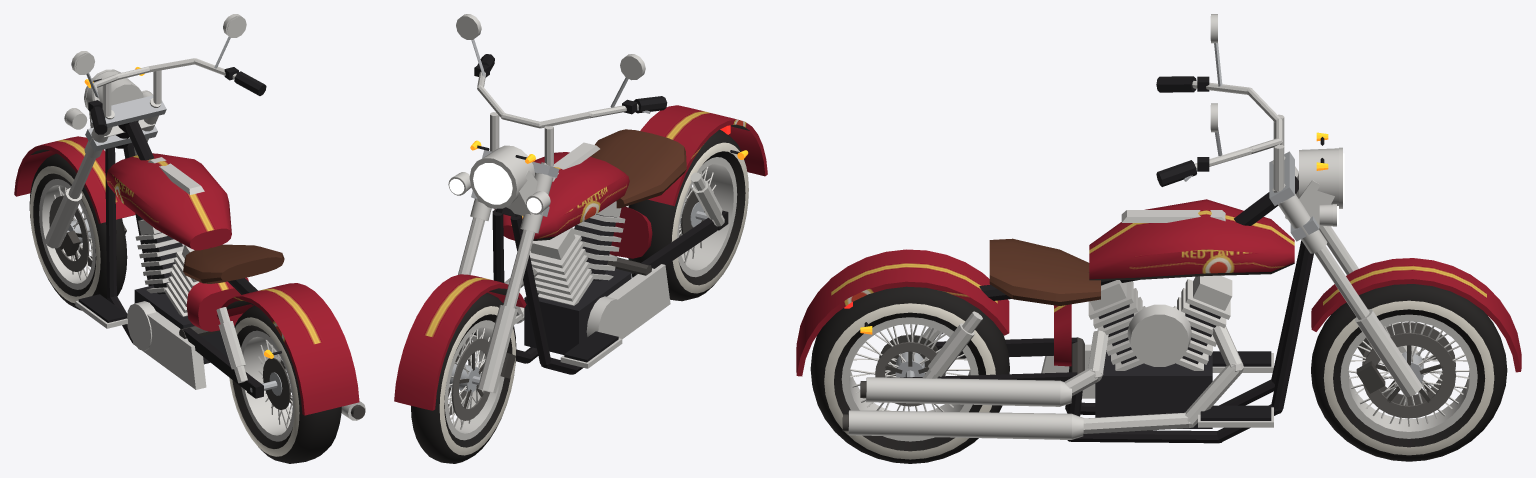
Rendered from BIKE-006_Export.fbx.
3 views of the same model, side by side, from view 1: azimuth 30°, elevation 25°; view 2: azimuth 150°, elevation 25°; view 3: azimuth 270°, elevation 25° (orthographic). The views are drawn at different scales.
Parts seen in each view (by area): view 1: BIKE-006_Frame, BIKE-006_Body, BIKE-006_Fork, BIKE-006_Wheel_R_Tire, BIKE-006_Wheel_F_Tire, BIKE-006_Wheel_R_Rim, BIKE-006_Wheel_F_Rim; view 2: BIKE-006_Frame, BIKE-006_Fork, BIKE-006_Body, BIKE-006_Wheel_R_Tire, BIKE-006_Wheel_F_Tire, BIKE-006_Wheel_F_Rim, BIKE-006_Wheel_R_Rim; view 3: BIKE-006_Frame, BIKE-006_Body, BIKE-006_Fork, BIKE-006_Wheel_F_Tire, BIKE-006_Wheel_R_Tire, BIKE-006_Wheel_F_Rim, BIKE-006_Wheel_R_Rim.
Boxes of the visible parts, x1=… form: BIKE-006_Frame: x1=75, y1=120, x2=365, y2=420; BIKE-006_Body: x1=106, y1=153, x2=359, y2=415; BIKE-006_Fork: x1=14, y1=14, x2=266, y2=256; BIKE-006_Wheel_R_Tire: x1=229, y1=305, x2=341, y2=463; BIKE-006_Wheel_F_Tire: x1=29, y1=153, x2=127, y2=310; BIKE-006_Wheel_R_Rim: x1=241, y1=330, x2=294, y2=441; BIKE-006_Wheel_F_Rim: x1=39, y1=179, x2=95, y2=289; BIKE-006_Frame: x1=470, y1=129, x2=728, y2=374; BIKE-006_Fork: x1=394, y1=14, x2=667, y2=410; BIKE-006_Body: x1=494, y1=105, x2=767, y2=258; BIKE-006_Wheel_R_Tire: x1=628, y1=129, x2=748, y2=301; BIKE-006_Wheel_F_Tire: x1=411, y1=292, x2=516, y2=463; BIKE-006_Wheel_F_Rim: x1=444, y1=320, x2=504, y2=440; BIKE-006_Wheel_R_Rim: x1=677, y1=157, x2=737, y2=277; BIKE-006_Frame: x1=842, y1=176, x2=1313, y2=443; BIKE-006_Body: x1=796, y1=199, x2=1294, y2=376; BIKE-006_Fork: x1=1156, y1=14, x2=1521, y2=397; BIKE-006_Wheel_F_Tire: x1=1311, y1=284, x2=1507, y2=461; BIKE-006_Wheel_R_Tire: x1=810, y1=286, x2=1009, y2=463; BIKE-006_Wheel_F_Rim: x1=1340, y1=314, x2=1477, y2=438; BIKE-006_Wheel_R_Rim: x1=841, y1=317, x2=978, y2=441.
Bounding box in the file's own units: 0.82 × 1.5 × 2.47.
Materials: 18 (2 with a texture image).
